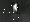person: (13, 3, 19, 15)
